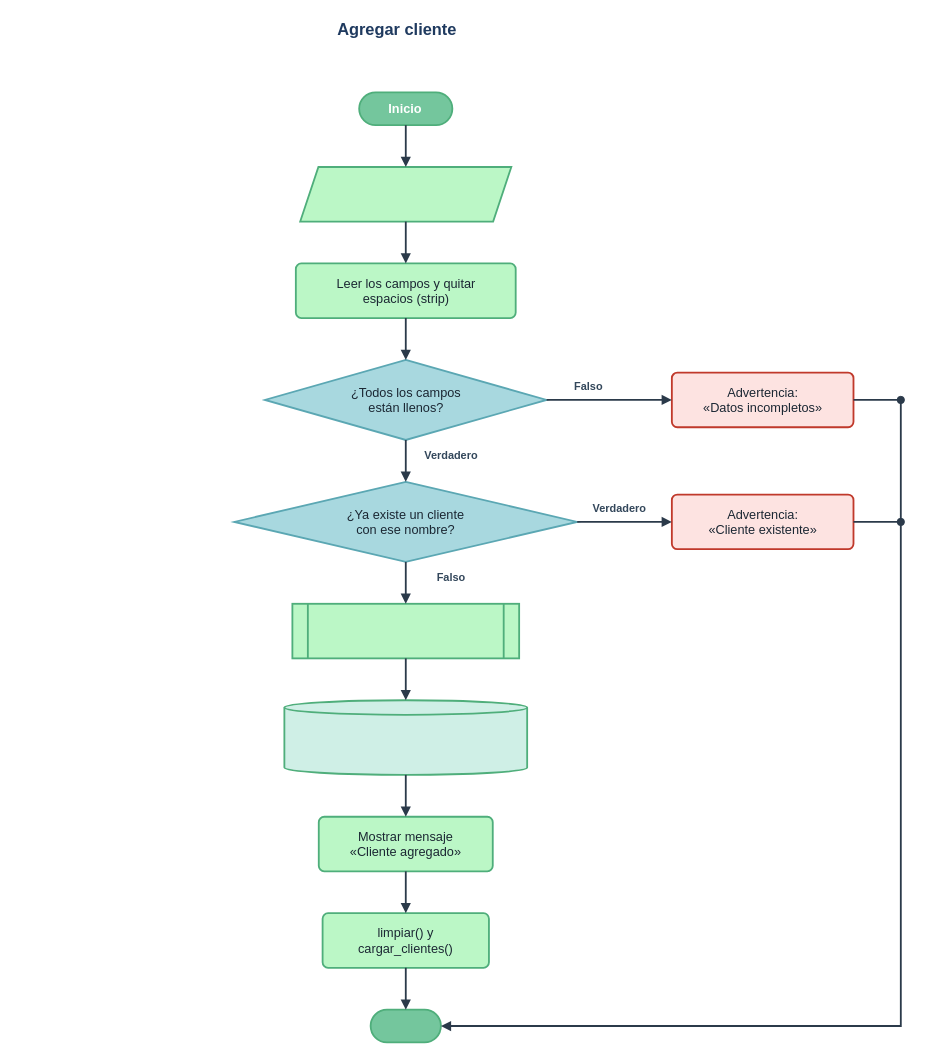
The diagram is 925 pixels wide and 1058 high, and some of its shapes have lost their labels. Here are the shapes that lost their labels. From the top down, the centre of each, then its label:
At point 405,194: "Ingresar nombre, NIT y dirección".
At point 405,630: "agregar_cliente(nombre, nit, direccion)".
At point 405,737: "Inventario.xlsx hoja «Clientes»: nueva fila".
At point 405,1025: "Fin".
